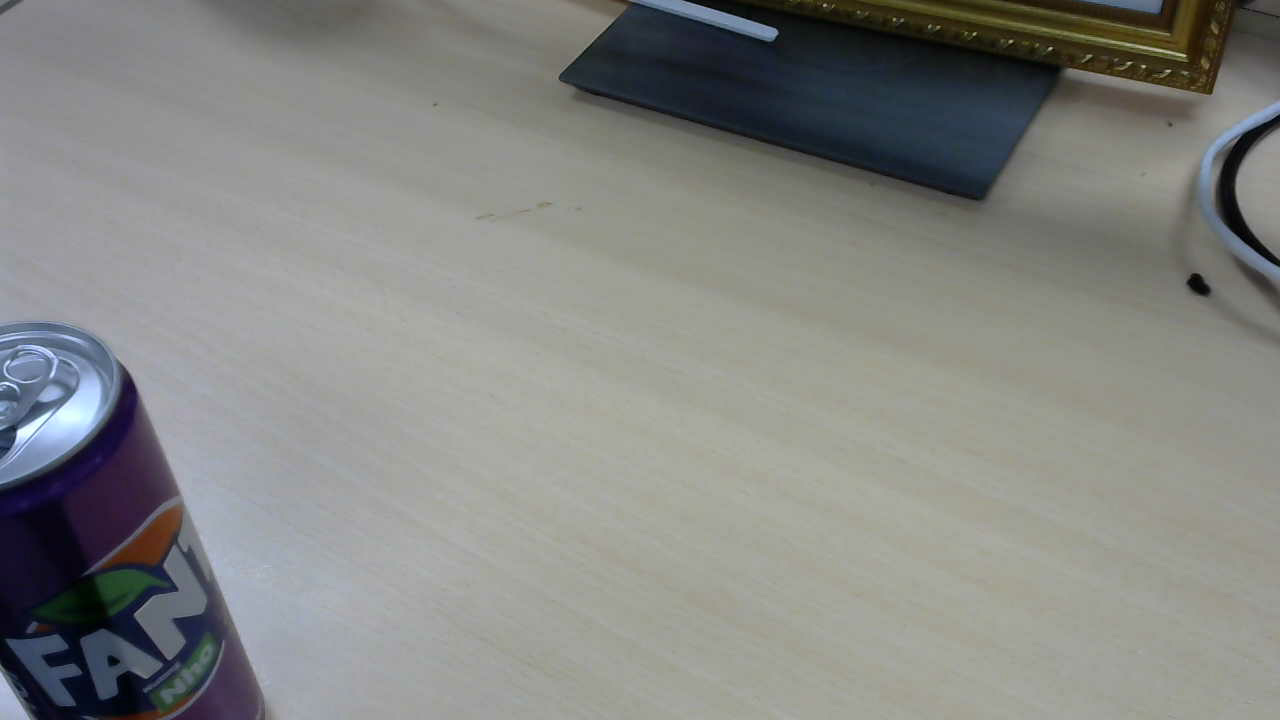Fanta: (7, 323, 270, 699)
